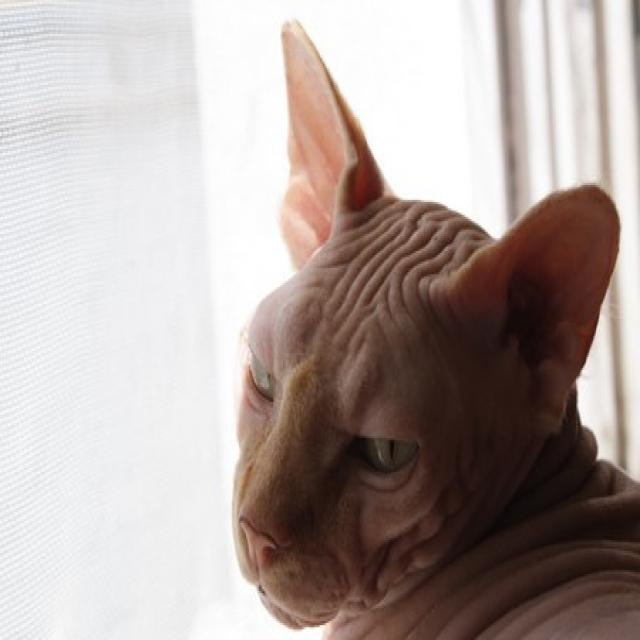Sphynx: (226, 6, 640, 640)
